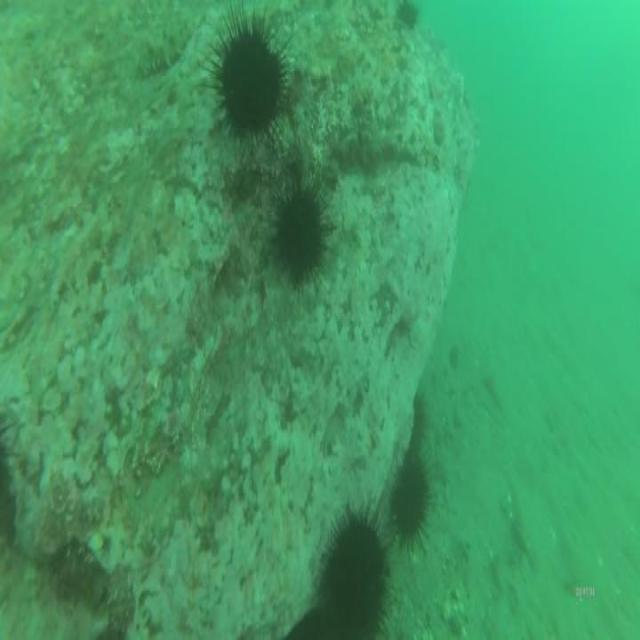echinus: (200, 0, 290, 153), (310, 501, 394, 640), (266, 168, 338, 296), (386, 454, 434, 560), (405, 392, 431, 460), (393, 0, 421, 32)
